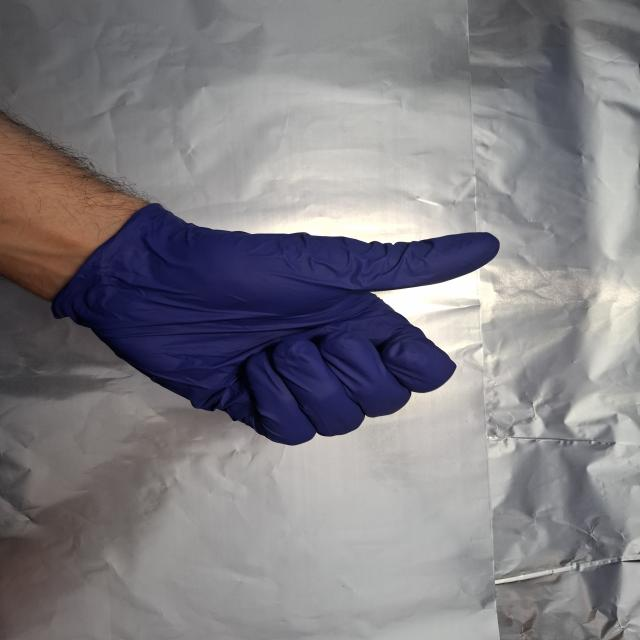glove_on: (58, 207, 504, 448)
